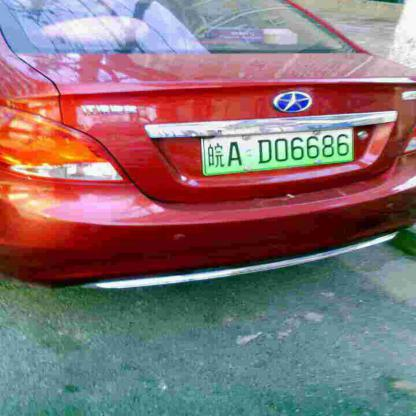lp: (203, 127, 354, 174)
